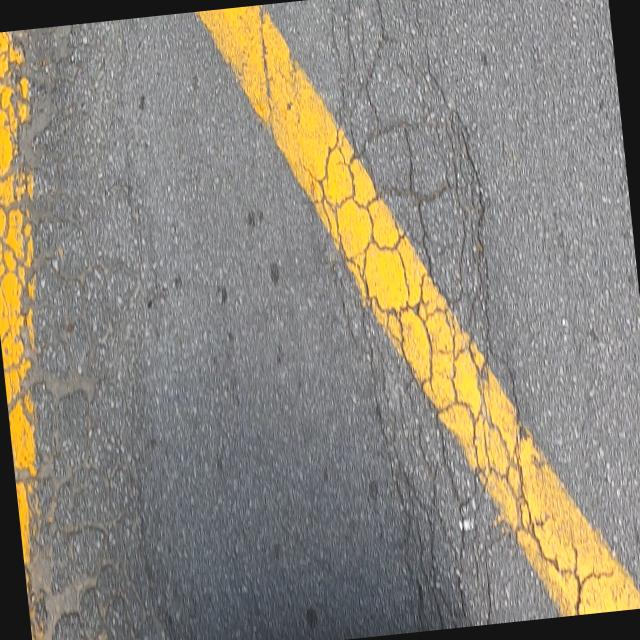Retak-Buaya: (312, 0, 581, 631), (0, 32, 38, 428)
